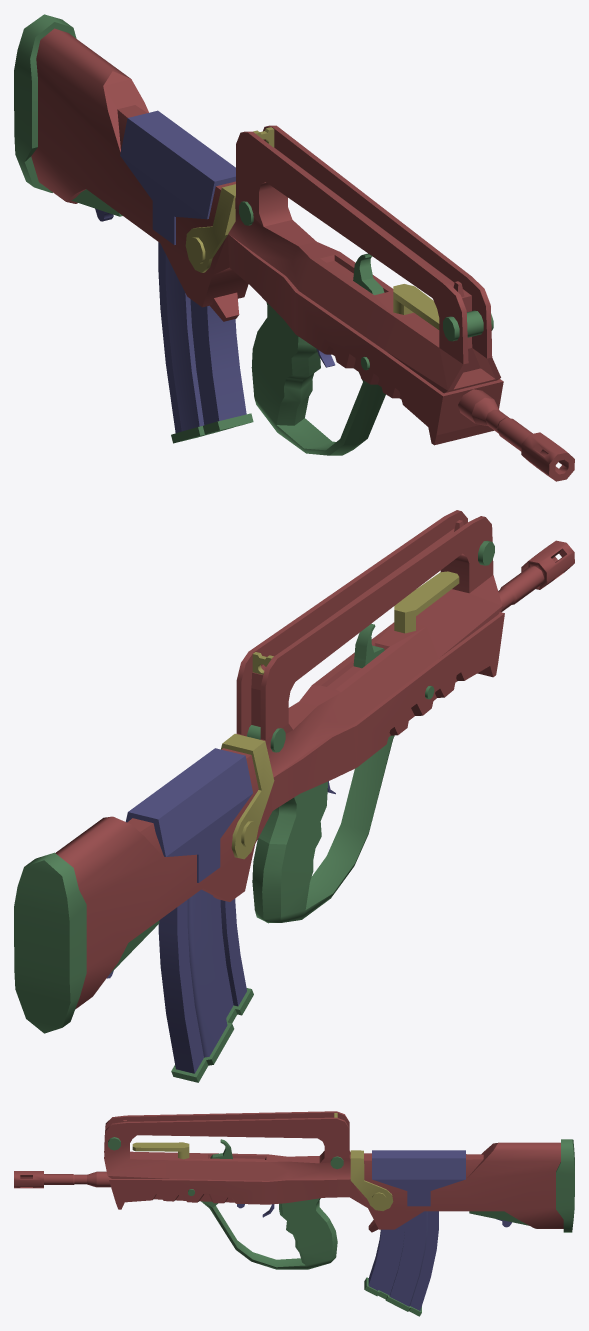
The model's file is SAR.glb.
The picture shows the model from 3 angles, top to bottom: view 1: azimuth 30°, elevation 25°; view 2: azimuth 150°, elevation 25°; view 3: azimuth 270°, elevation 25°; orthographic projection. The views are drawn at different scales.
Parts seen in each view (by area): view 1: surge_new3; view 2: surge_new3; view 3: surge_new3.
Part boxes in pixels (box(x1,y1,x2,y2)): surge_new3: box(14, 14, 574, 481); surge_new3: box(14, 510, 574, 1082); surge_new3: box(14, 1111, 574, 1316).
Size of the model in its own units: 0.0419 by 0.224 by 0.5741.
